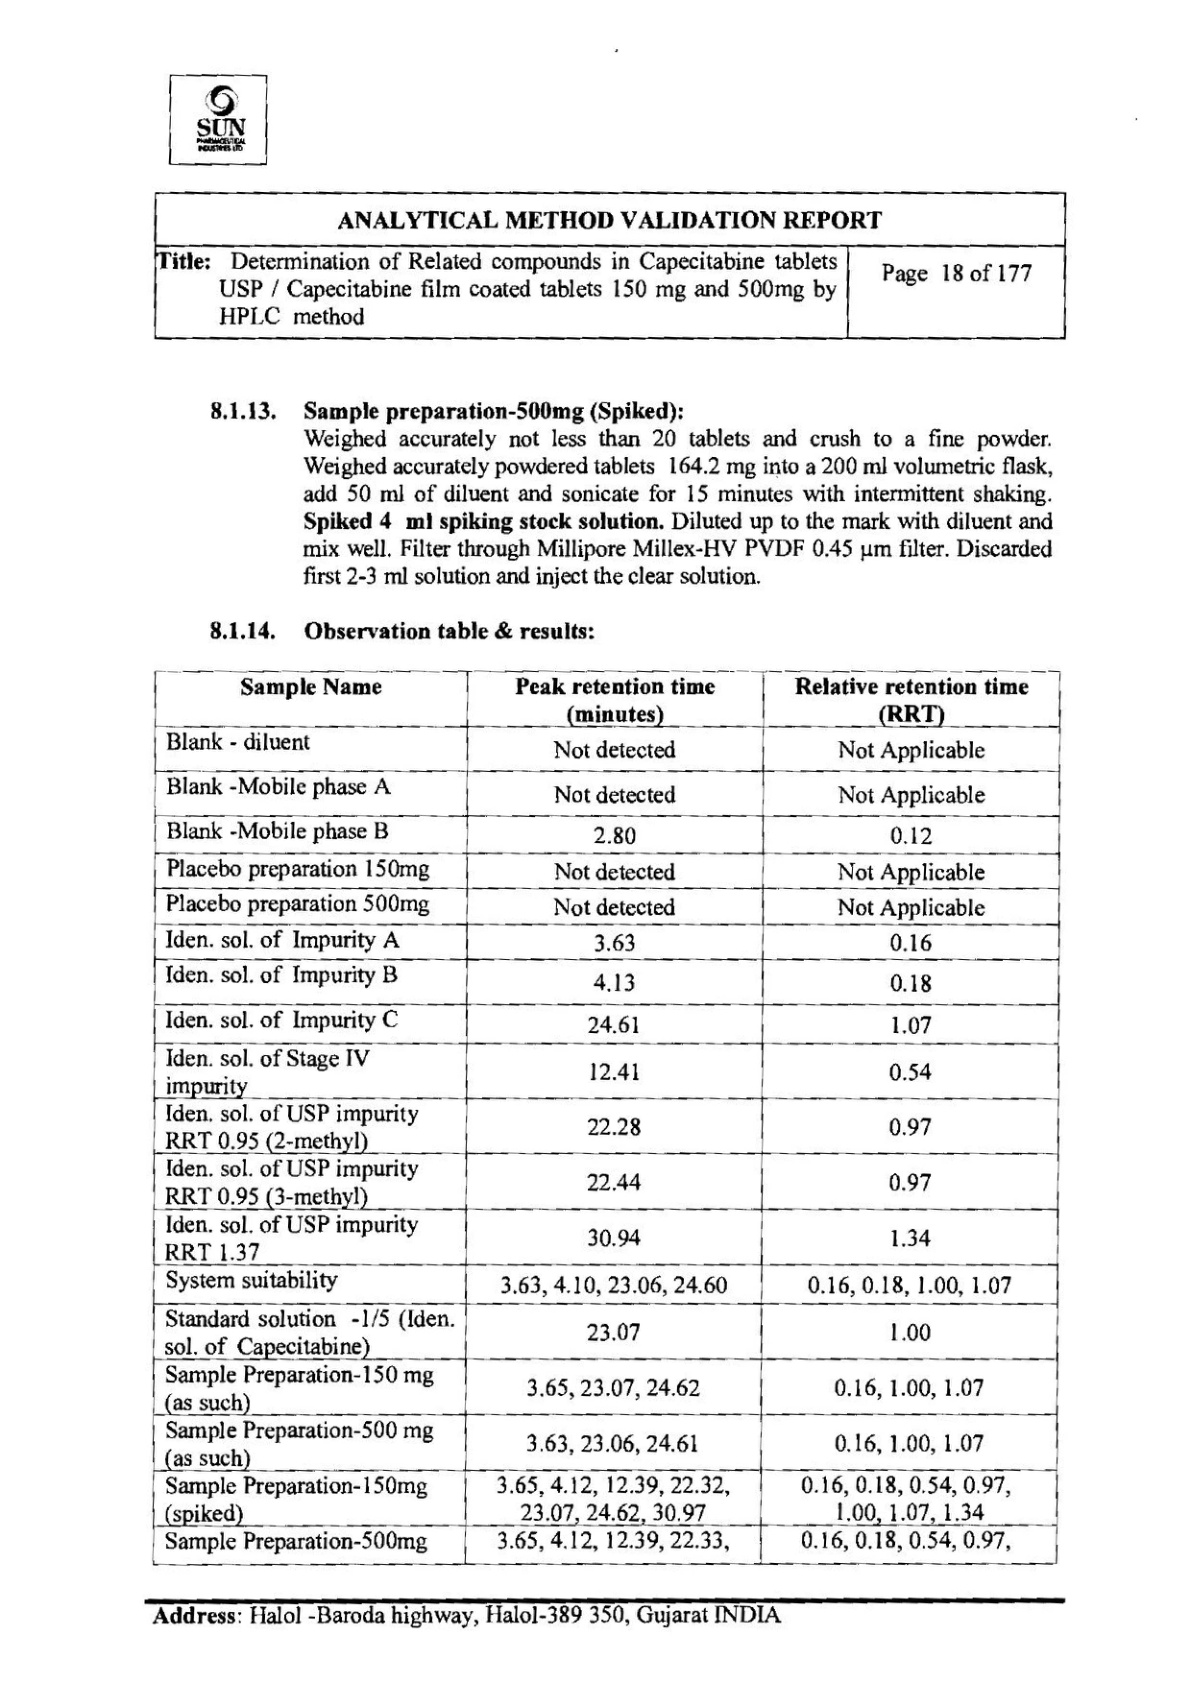full_lined: (152, 668, 1062, 1564)
merged_cells: (152, 189, 1067, 341)
